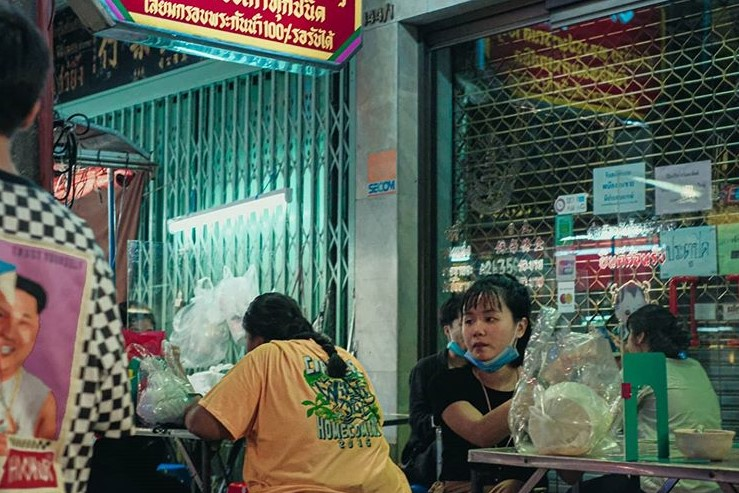face_no_mask: (626, 303, 681, 354)
face_with_mask: (462, 274, 534, 374), (439, 292, 467, 353)
